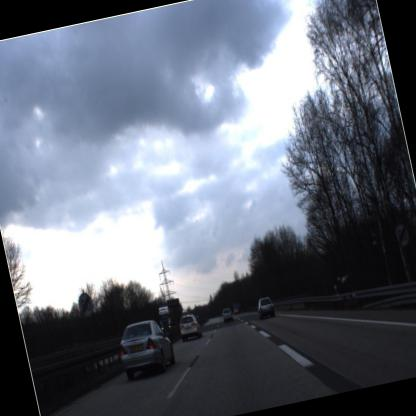other: (72, 284, 102, 331)
